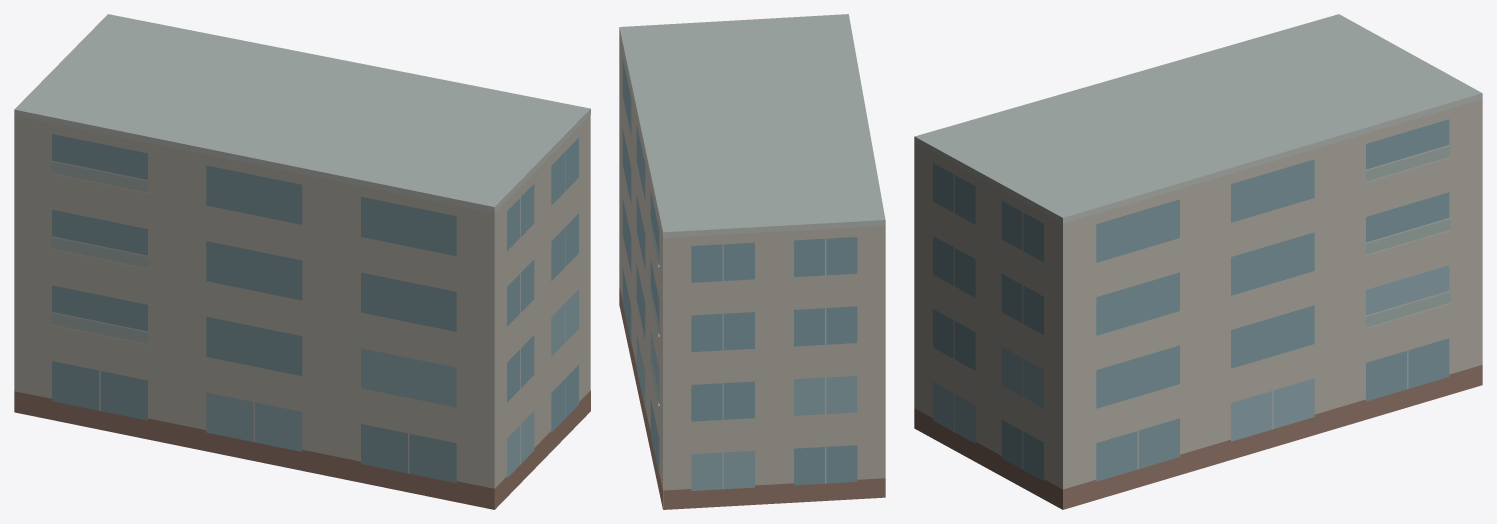
File: survey-upis-32967114.glb
The picture shows the model from 3 angles, left to right: view 1: azimuth 30°, elevation 25°; view 2: azimuth 150°, elevation 25°; view 3: azimuth 270°, elevation 25°; orthographic projection. The views are drawn at different scales.
Visible parts, largest first — view 1: survey-upis-32967114.tmp; view 2: survey-upis-32967114.tmp; view 3: survey-upis-32967114.tmp.
Part boxes in pixels (<box>): survey-upis-32967114.tmp: <box>14,14,590,509</box>; survey-upis-32967114.tmp: <box>619,14,885,509</box>; survey-upis-32967114.tmp: <box>914,14,1482,509</box>.
Size of the model in its own units: 18.29 by 12.2 by 21.52.
